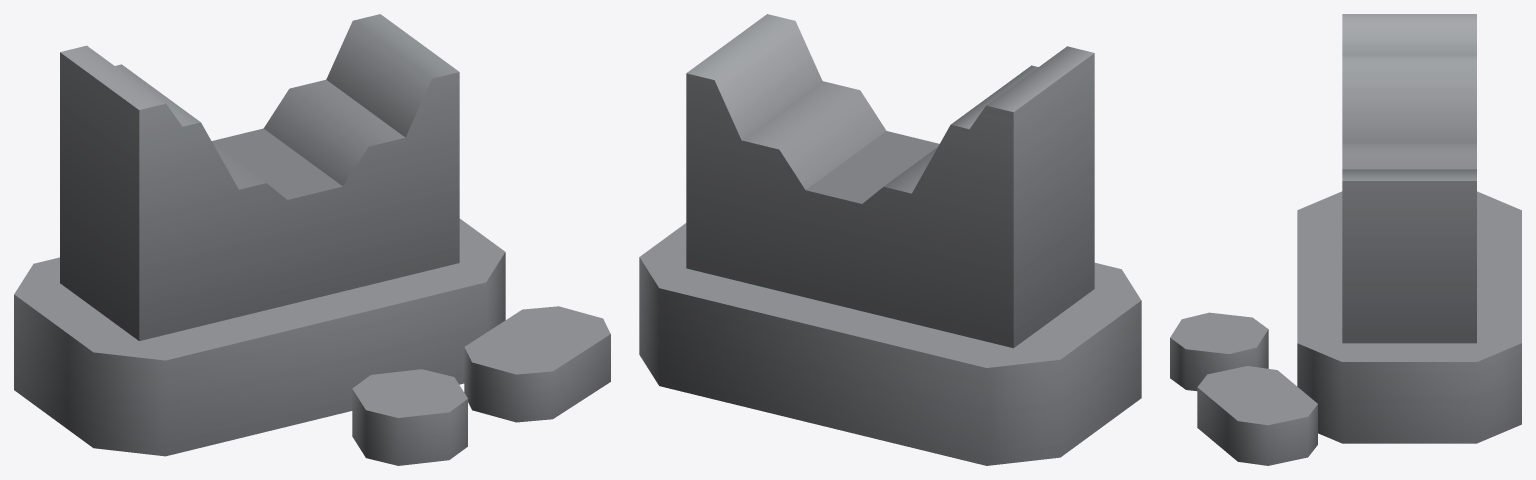
The model's file is gravestone-broken.glb.
3 views of the same model, side by side, from view 1: azimuth 30°, elevation 25°; view 2: azimuth 150°, elevation 25°; view 3: azimuth 270°, elevation 25° (orthographic). The views are drawn at different scales.
Parts seen in each view (by area): view 1: gravestone-broken; view 2: gravestone-broken; view 3: gravestone-broken.
Boxes of the visible parts, x1,y1,x2,y2 form: gravestone-broken: [14, 14, 610, 465]; gravestone-broken: [639, 14, 1141, 465]; gravestone-broken: [1170, 14, 1521, 465].
Bounding box in the file's own units: 0.7635 × 0.5116 × 0.5873.
Materials: 1 (1 with a texture image).
